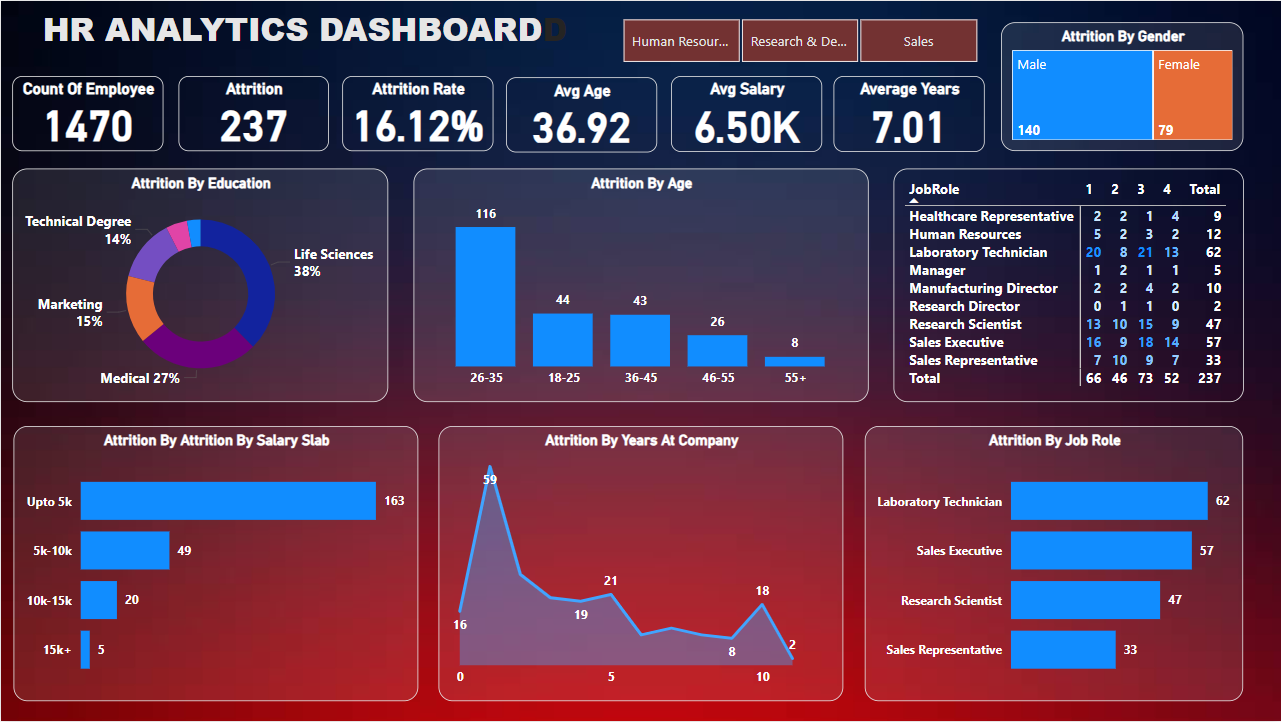

This screenshot's page, from the dashboard's own definition file:
{"tool":"powerbi","page":{"name":"HR Analytics Dashboard","canvas":[1280,720],"ordinal":0},"visuals":[{"type":"card","title":"Count Of Employee","fields":{"Values":["CountNonNull(HR_Analytics.EmpID)"]},"box":[11.2,75,151.2,75],"z":0},{"type":"card","title":"Attrition","fields":{"Values":["Sum(HR_Analytics.Attrition Count)"]},"box":[177.5,75,150,75],"z":1000},{"type":"card","title":"Attrition Rate","fields":{"Values":["HR_Analytics.Attrition Rate"]},"box":[341.2,75,151.2,75],"z":2000},{"type":"card","title":"Avg Age","fields":{"Values":["Avg(HR_Analytics.Age)"]},"box":[505,76.2,151.2,75],"z":2001},{"type":"card","title":"Avg Salary","fields":{"Values":["Avg(HR_Analytics.MonthlyIncome)"]},"box":[670,75,151.2,76.2],"z":2002},{"type":"card","title":"Average Years","fields":{"Values":["Avg(HR_Analytics.YearsAtCompany)"]},"box":[832.5,75,151.2,76.2],"z":2003},{"type":"donutChart","title":"Attrition By Education","fields":{"Category":["HR_Analytics.EducationField"],"Y":["Sum(HR_Analytics.Attrition Count)"]},"box":[11.2,167.5,376.2,233.8],"z":2004},{"type":"columnChart","title":"Attrition By Age","fields":{"Y":["Sum(HR_Analytics.Attrition Count)"],"Category":["HR_Analytics.AgeGroup"]},"box":[412.5,167.5,455,233.8],"z":2006},{"type":"pivotTable","fields":{"Rows":["HR_Analytics.JobRole"],"Columns":["HR_Analytics.JobSatisfaction"],"Values":["Sum(HR_Analytics.Attrition Count)"]},"box":[892.5,167.5,350,233.8],"z":2007},{"type":"barChart","title":"Attrition By Attrition By Salary Slab","fields":{"Category":["HR_Analytics.SalarySlab"],"Y":["Sum(HR_Analytics.Attrition Count)"]},"box":[12.5,425,405,275],"z":2008},{"type":"barChart","title":"Attrition By Job Role","fields":{"Category":["HR_Analytics.JobRole"],"Y":["Sum(HR_Analytics.Attrition Count)"]},"box":[863.8,425,378.8,275],"z":2009},{"type":"areaChart","title":"Attrition By Years At Company","fields":{"Category":["HR_Analytics.YearsAtCompany"],"Y":["Sum(HR_Analytics.Attrition Count)"]},"box":[437.5,425,405,275],"z":2010},{"type":"treemap","title":"Attrition By Gender","fields":{"Group":["HR_Analytics.Gender"],"Values":["Sum(HR_Analytics.Attrition Count)"]},"box":[1000,21.2,242.5,128.8],"z":2011},{"type":"slicer","fields":{"Values":["HR_Analytics.Department"]},"box":[548.8,8.8,466.2,56.2],"z":2012},{"type":"textbox","box":[25,0,546.2,75],"z":2013}]}

Visuals, with their boxes in screenshot pixels (x1, y1, x2, y2), scaled from the page's 1280x720 canvas onto the 1281x722 screenshot:
"Count Of Employee" card: [left=11, top=75, right=163, bottom=150]
"Attrition" card: [left=178, top=75, right=328, bottom=150]
"Attrition Rate" card: [left=341, top=75, right=493, bottom=150]
"Avg Age" card: [left=505, top=76, right=657, bottom=152]
"Avg Salary" card: [left=671, top=75, right=822, bottom=152]
"Average Years" card: [left=833, top=75, right=984, bottom=152]
"Attrition By Education" donutChart: [left=11, top=168, right=388, bottom=402]
"Attrition By Age" columnChart: [left=413, top=168, right=868, bottom=402]
pivotTable - HR_Analytics.JobRole x HR_Analytics.JobSatisfaction: [left=893, top=168, right=1243, bottom=402]
"Attrition By Attrition By Salary Slab" barChart: [left=13, top=426, right=418, bottom=702]
"Attrition By Job Role" barChart: [left=864, top=426, right=1244, bottom=702]
"Attrition By Years At Company" areaChart: [left=438, top=426, right=843, bottom=702]
"Attrition By Gender" treemap: [left=1001, top=21, right=1243, bottom=150]
slicer - HR_Analytics.Department: [left=549, top=9, right=1016, bottom=65]
textbox: [left=25, top=0, right=572, bottom=75]
